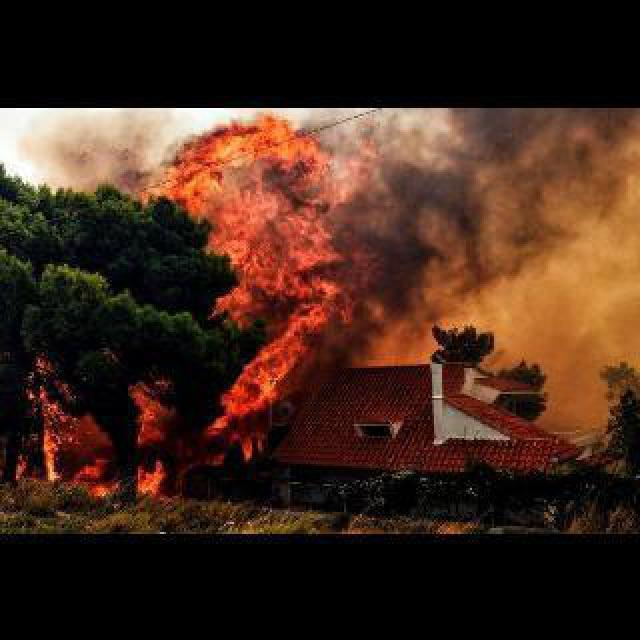Fire: (24, 120, 380, 494)
